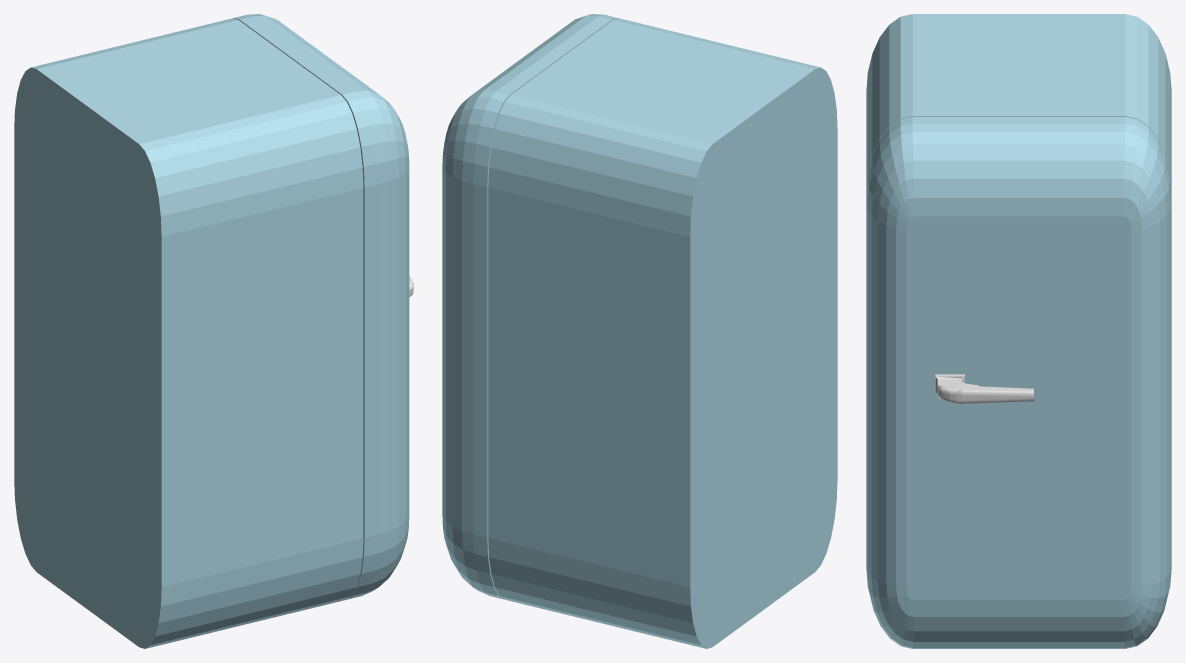
File: myfridgeOC2.glb
3 views of the same model, side by side, from view 1: azimuth 30°, elevation 25°; view 2: azimuth 150°, elevation 25°; view 3: azimuth 270°, elevation 25° (orthographic). The views are drawn at different scales.
Visible parts, largest first — view 1: Cube, Cube.001; view 2: Cube, Cube.001; view 3: Cube.001, Cube, Cube.002.
Part boxes in pixels (box(x1,y1,x2,y2)): Cube: box(14, 18, 363, 648); Cube.001: box(233, 14, 409, 599); Cube: box(488, 18, 837, 648); Cube.001: box(442, 14, 618, 599); Cube.001: box(866, 116, 1171, 648); Cube: box(866, 14, 1171, 191); Cube.002: box(935, 376, 1033, 404).
Size of the model in its own units: 4.61 by 7.53 by 4.
